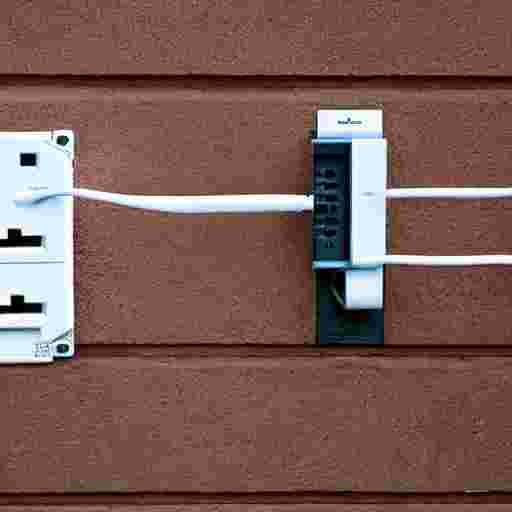power outlet: (0, 130, 74, 363), (314, 109, 386, 309)
